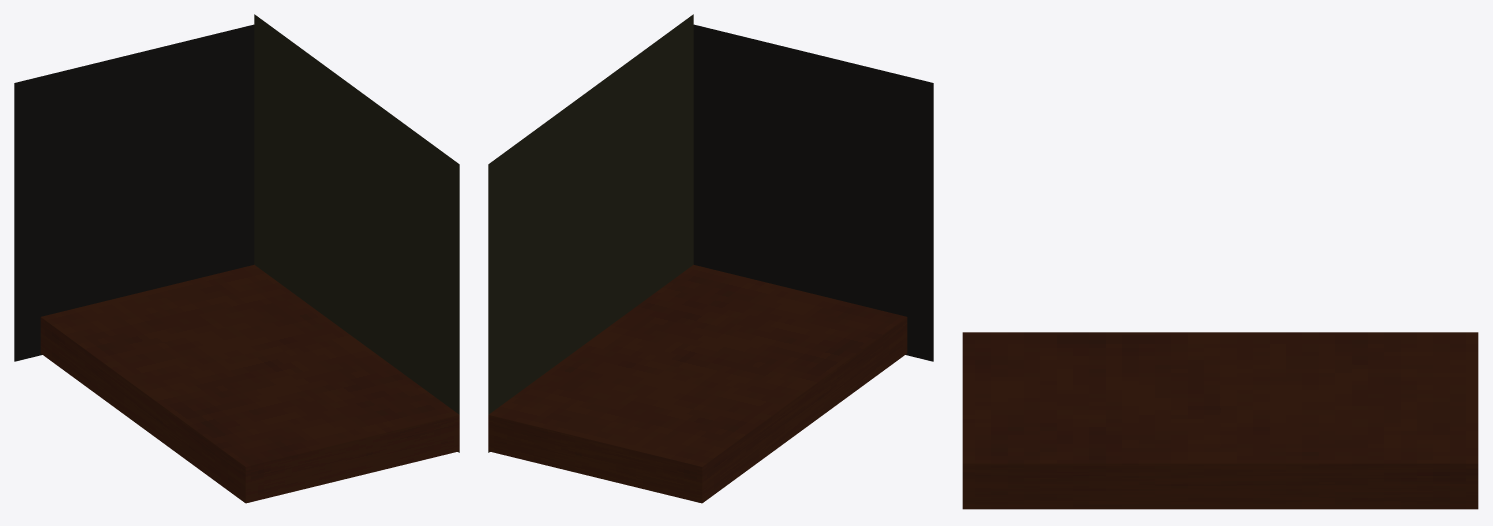
The model's file is Luna0CinemaFundoSusto3D.glb.
3 renders of one model, left to right at view 1: azimuth 30°, elevation 25°; view 2: azimuth 150°, elevation 25°; view 3: azimuth 270°, elevation 25°, orthographic. The views are drawn at different scales.
Visible parts, largest first — view 1: Setor_1; view 2: Setor_1; view 3: Setor_1.
Boxes of the visible parts, x1,y1,x2,y2 form: Setor_1: (14, 14, 459, 503); Setor_1: (488, 14, 933, 503); Setor_1: (962, 332, 1478, 509).
Size of the model in its own units: 7.3 by 8.4 by 10.82.
Materials: 1 (1 with a texture image).
